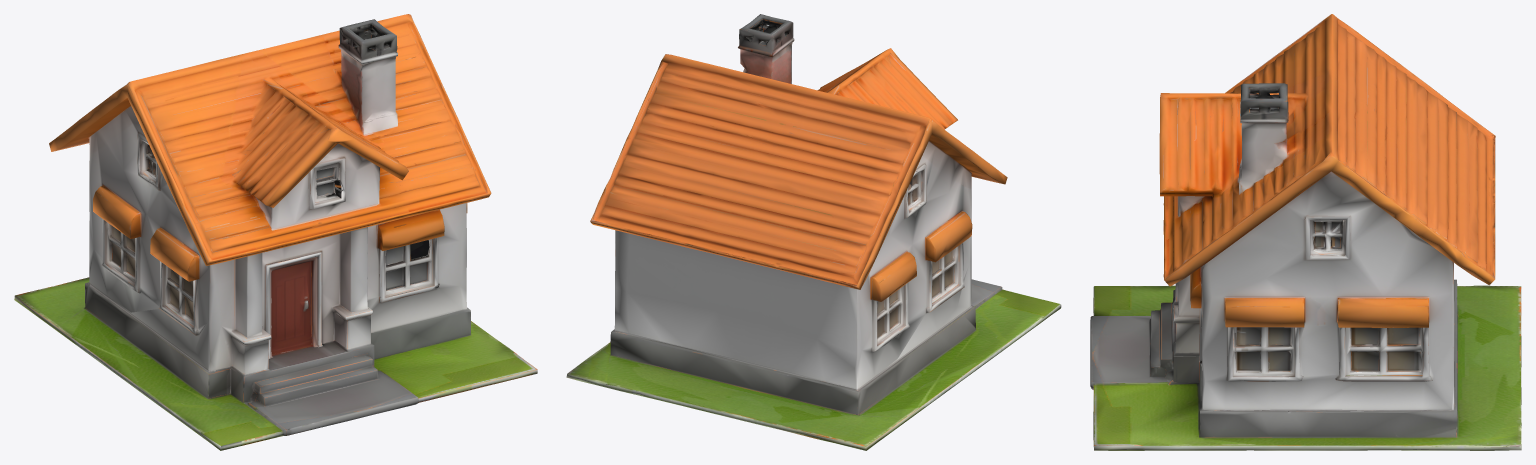
The picture shows the model from 3 angles, left to right: view 1: azimuth 30°, elevation 25°; view 2: azimuth 150°, elevation 25°; view 3: azimuth 270°, elevation 25°; orthographic projection. The views are drawn at different scales.
Parts seen in each view (by area): view 1: Mesh_0; view 2: Mesh_0; view 3: Mesh_0.
Part boxes in pixels (left/top/right/bottom): Mesh_0: left=14, top=14, right=537, bottom=450; Mesh_0: left=566, top=14, right=1061, bottom=450; Mesh_0: left=1090, top=14, right=1521, bottom=450.
Size of the model in its own units: 169 by 155 by 191.
Materials: 1 (1 with a texture image).
